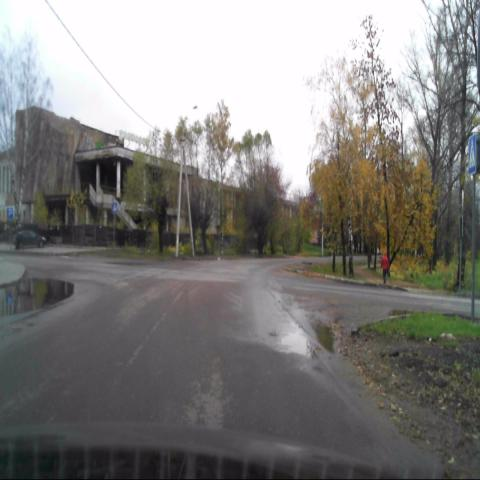5_19_1: (468, 132, 476, 176)
